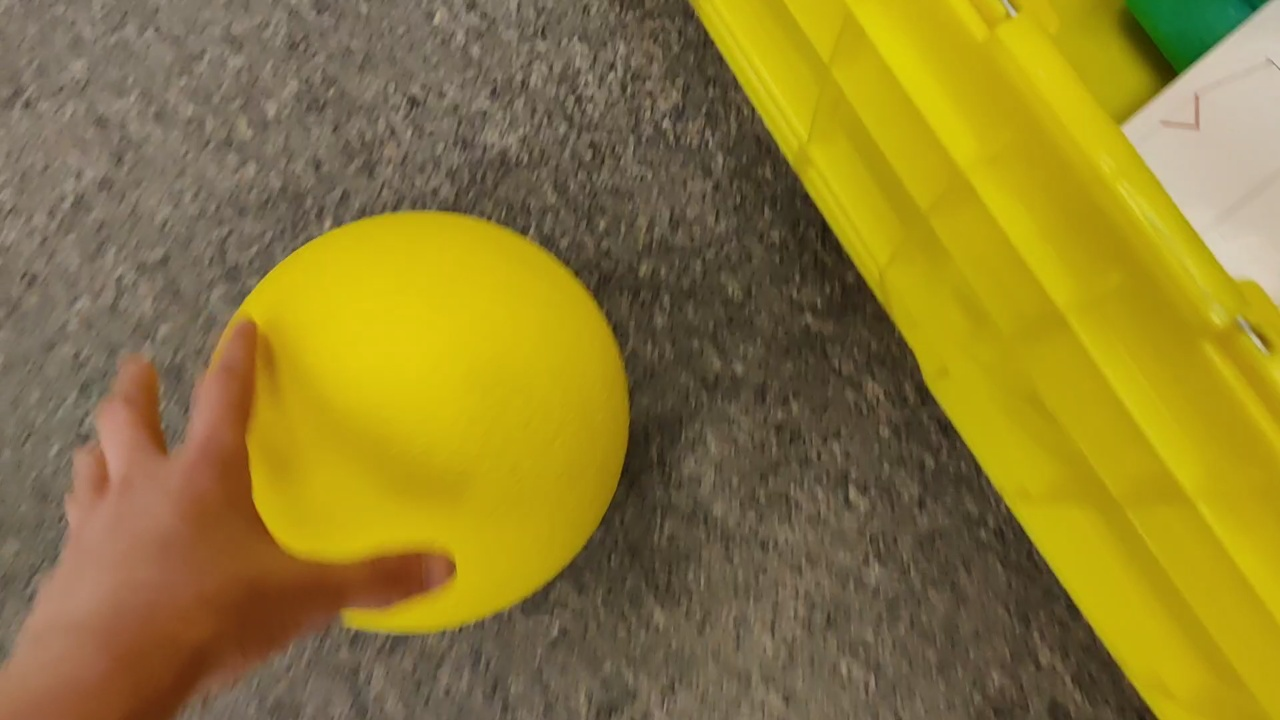Ball: (201, 210, 634, 639)
